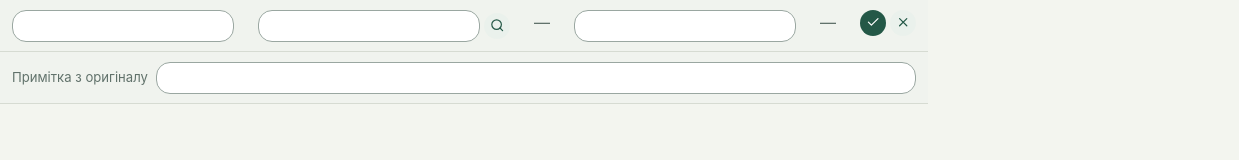
Test: SettlementRowForm › requires a source label (BH-48)
The image size is (1239, 160).
Click the button named "Зберегти": [873, 23] box [860,10,886,36]
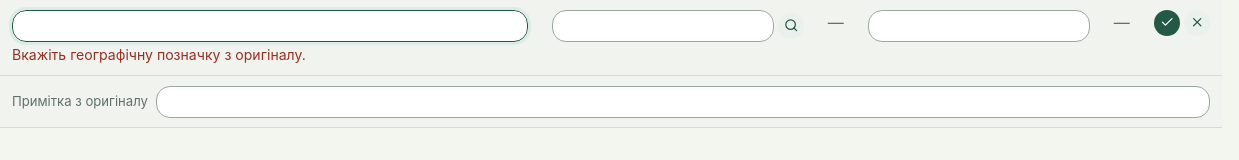
Now the text "Вкажіть географічну позначку з оригіналу." is shown, box [12,46,306,63]
